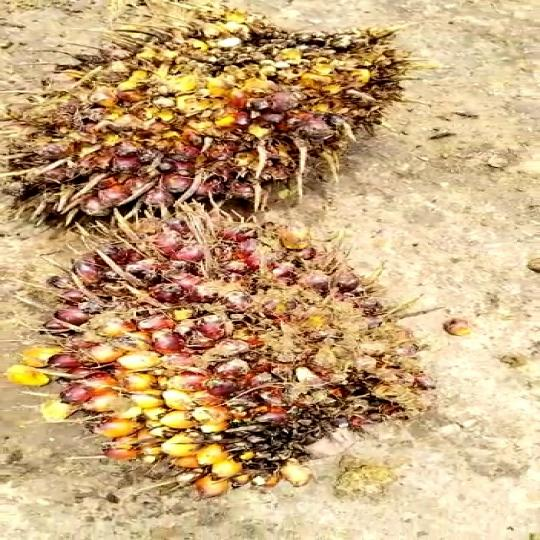masak: (0, 216, 433, 498), (0, 19, 419, 230)
